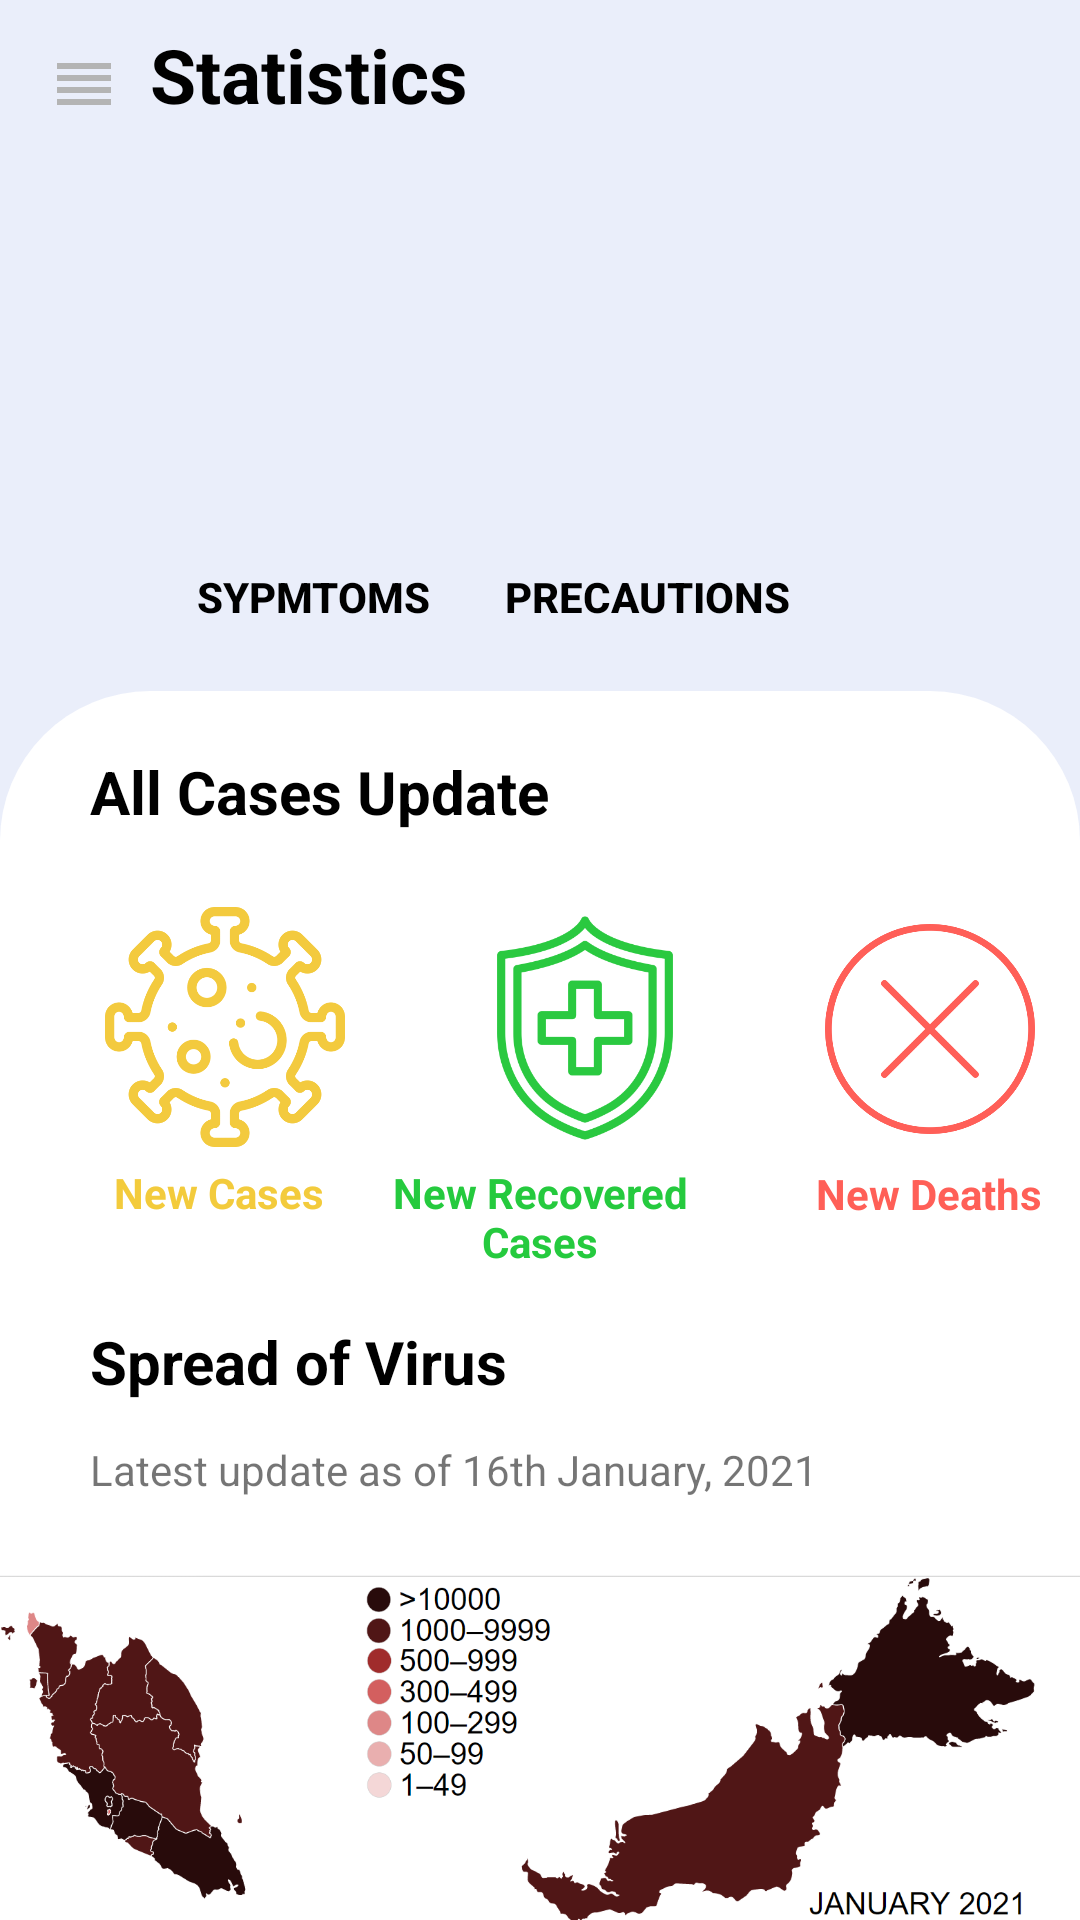

Named icons in this screenshot (1080*1920) and their centers, (x,y):
cancel: (930,1029)
rehabilitation: (585,1028)
virus: (225,1027)
